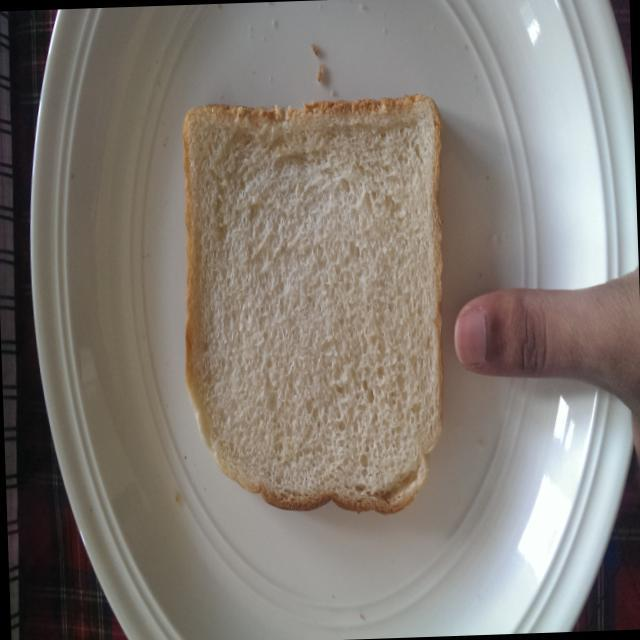Bread: (172, 84, 458, 536)
Finger: (446, 279, 570, 392)
